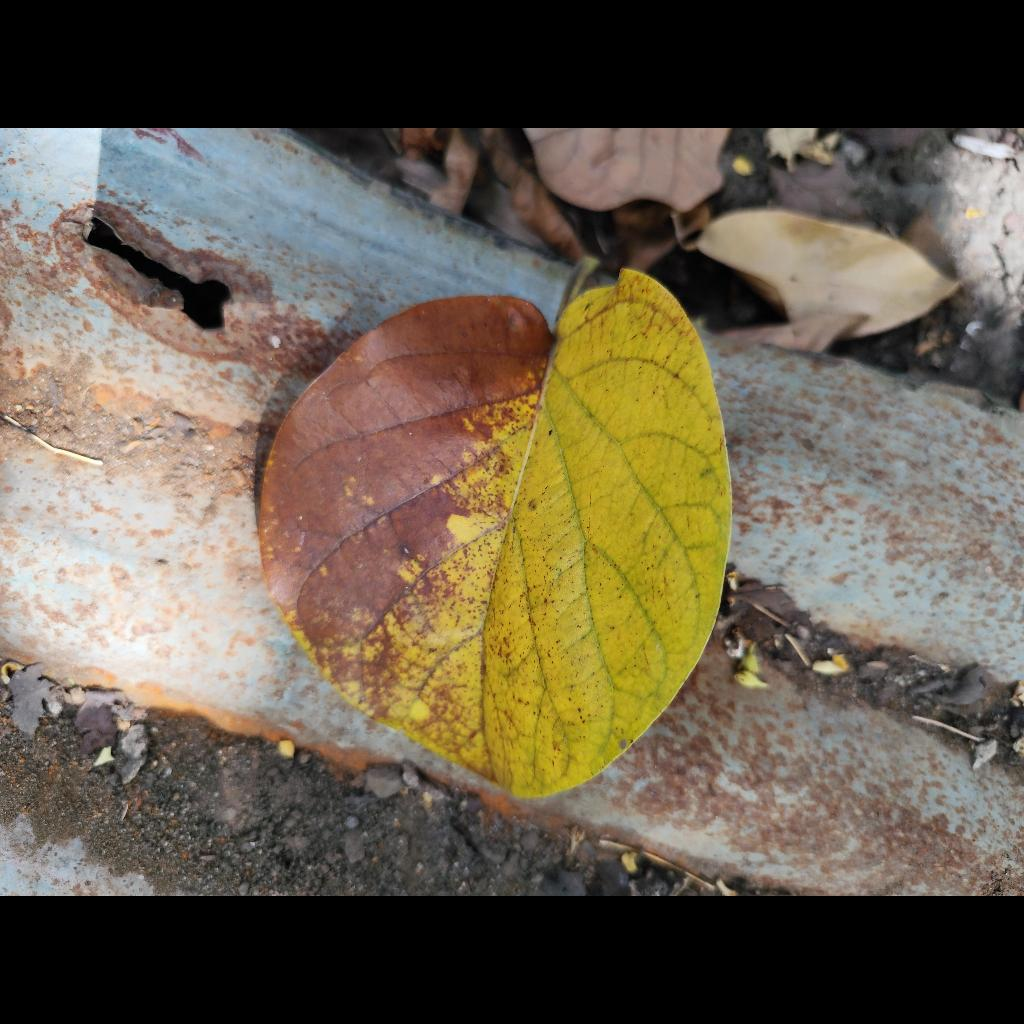deficiencia_nutricional: (259, 271, 732, 796)
